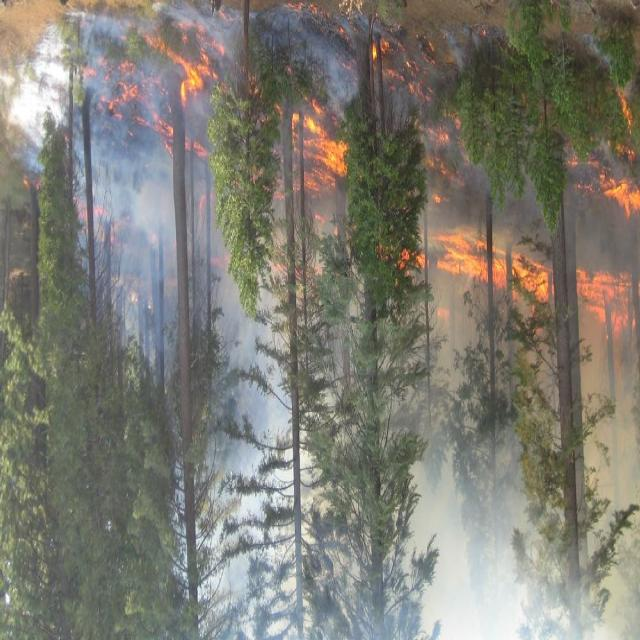fire: (417, 92, 640, 324), (284, 22, 417, 232), (96, 20, 259, 167), (181, 195, 258, 292), (371, 229, 419, 294)
